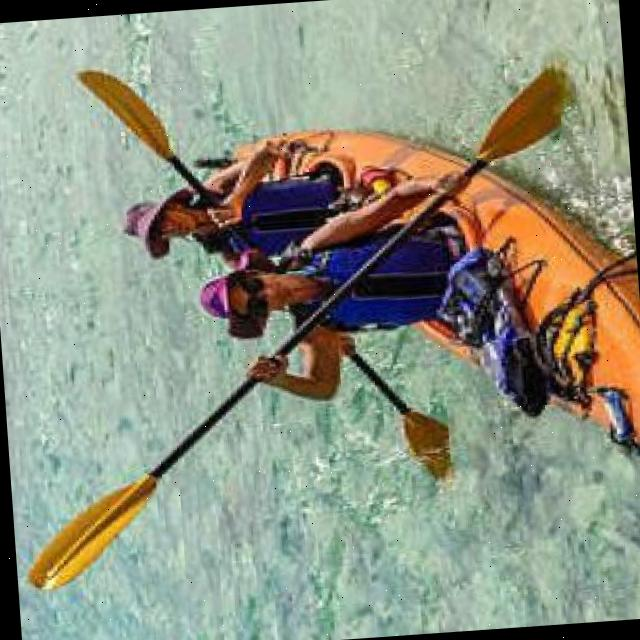kayak: (443, 171, 640, 442), (275, 129, 463, 184), (479, 67, 558, 152)
